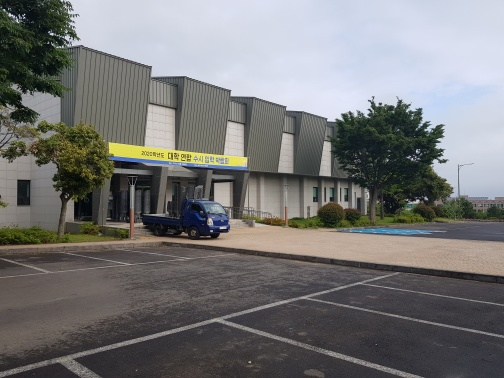Gym: (50, 38, 379, 239), (58, 45, 325, 174)
